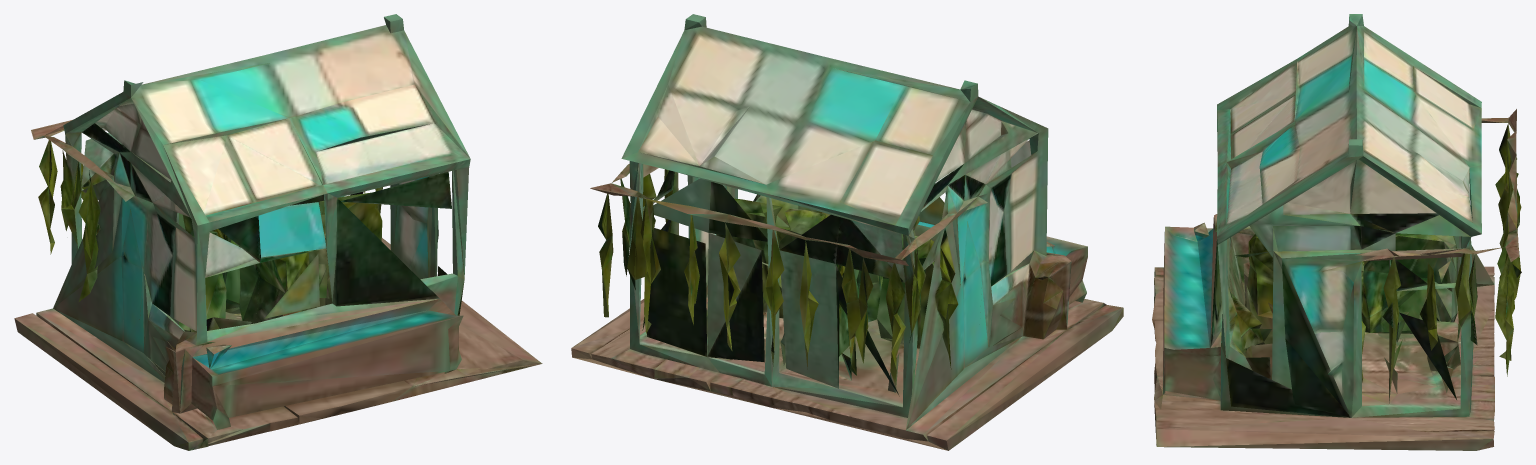
Rendered from greenhouse.glb.
The picture shows the model from 3 angles, left to right: view 1: azimuth 30°, elevation 25°; view 2: azimuth 150°, elevation 25°; view 3: azimuth 270°, elevation 25°; orthographic projection. The views are drawn at different scales.
Visible parts, largest first — view 1: greenhouse; view 2: greenhouse; view 3: greenhouse.
Boxes of the visible parts, x1,y1,x2,y2 form: greenhouse: (14, 14, 542, 450); greenhouse: (571, 14, 1123, 450); greenhouse: (1152, 14, 1521, 450).
Size of the model in its own units: 1.9 by 1.46 by 1.71.
1 material, 1 textured.
